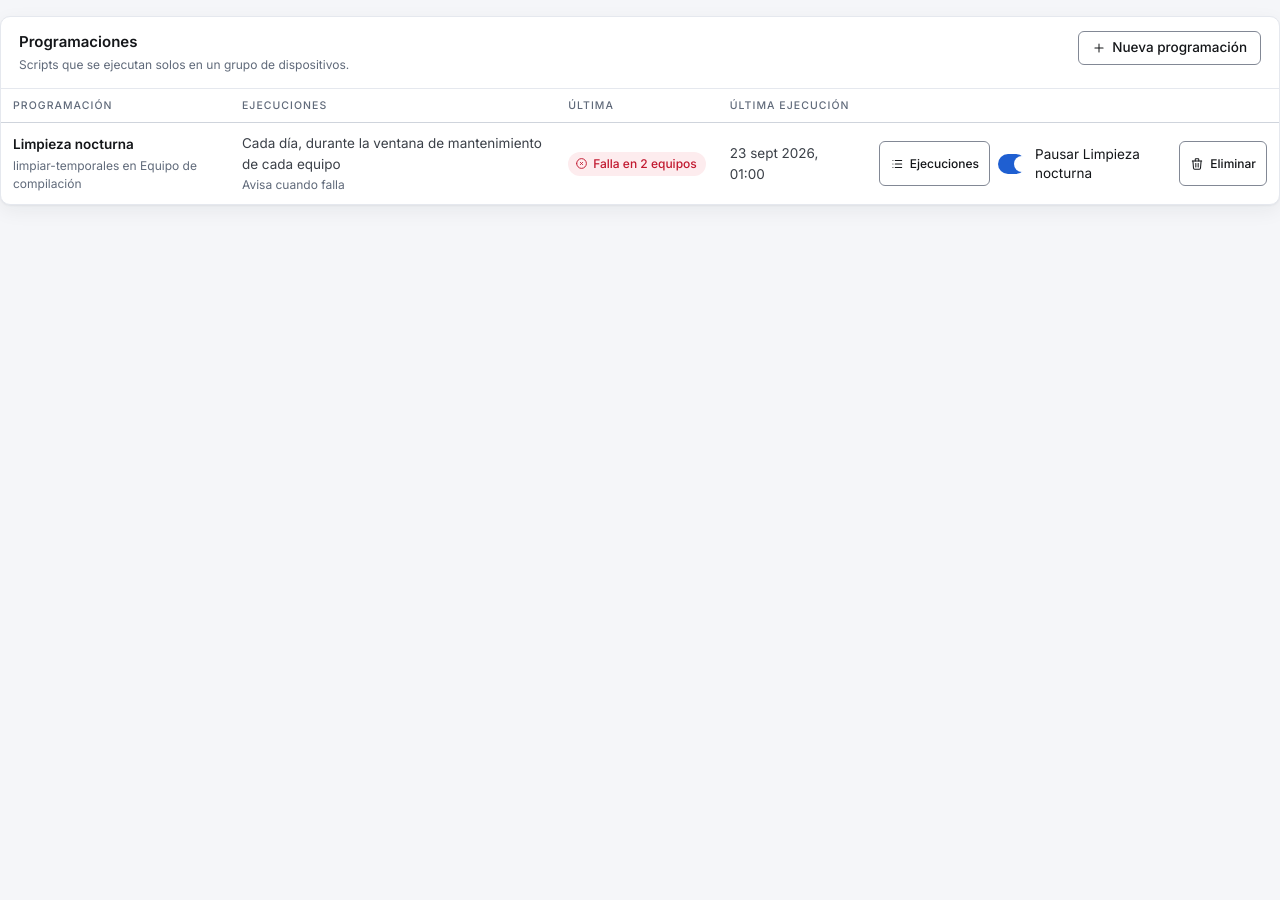
it: the schedules panel, in Spanish › asks before deleting a schedule
The image size is (1280, 900).
expect the text "Limpieza nocturna" is shown: met, box [13,136,134,152]
Click the button "Eliminar".
click(1223, 164)  # box [1179,141,1267,186]
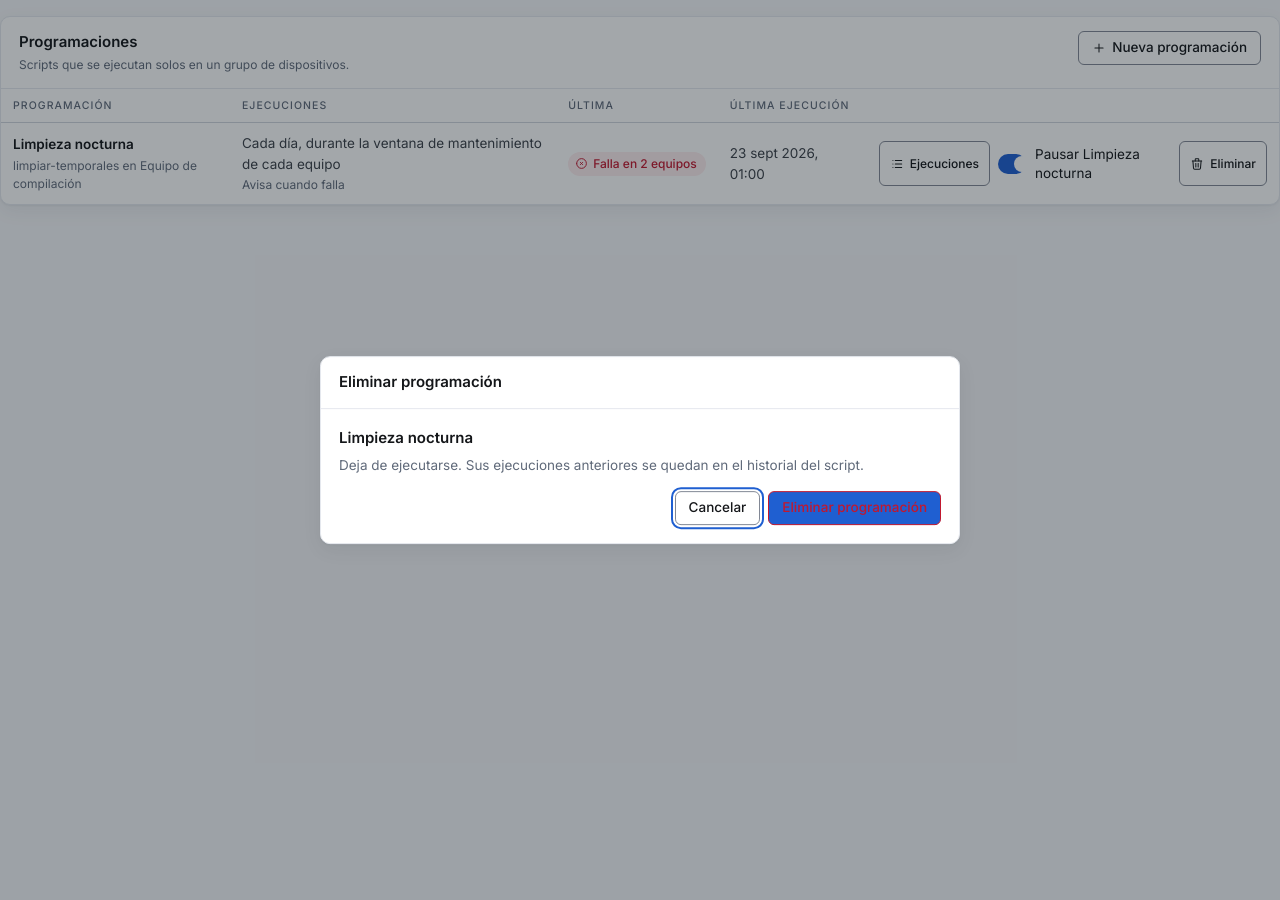
expect the dialog "Eliminar programación" shows "Deja de ejecutarse. Sus ejecuciones anteriores se quedan en el historial del script.": met, box [339,457,864,473]
